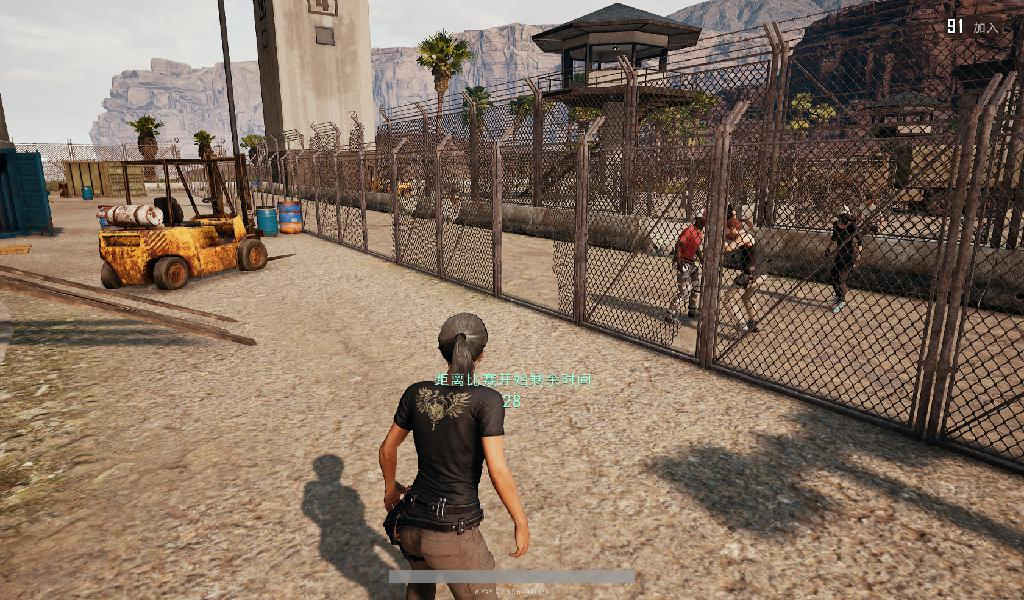Target Person: (377, 310, 531, 600), (717, 219, 766, 338), (821, 206, 863, 311), (671, 206, 707, 327)
